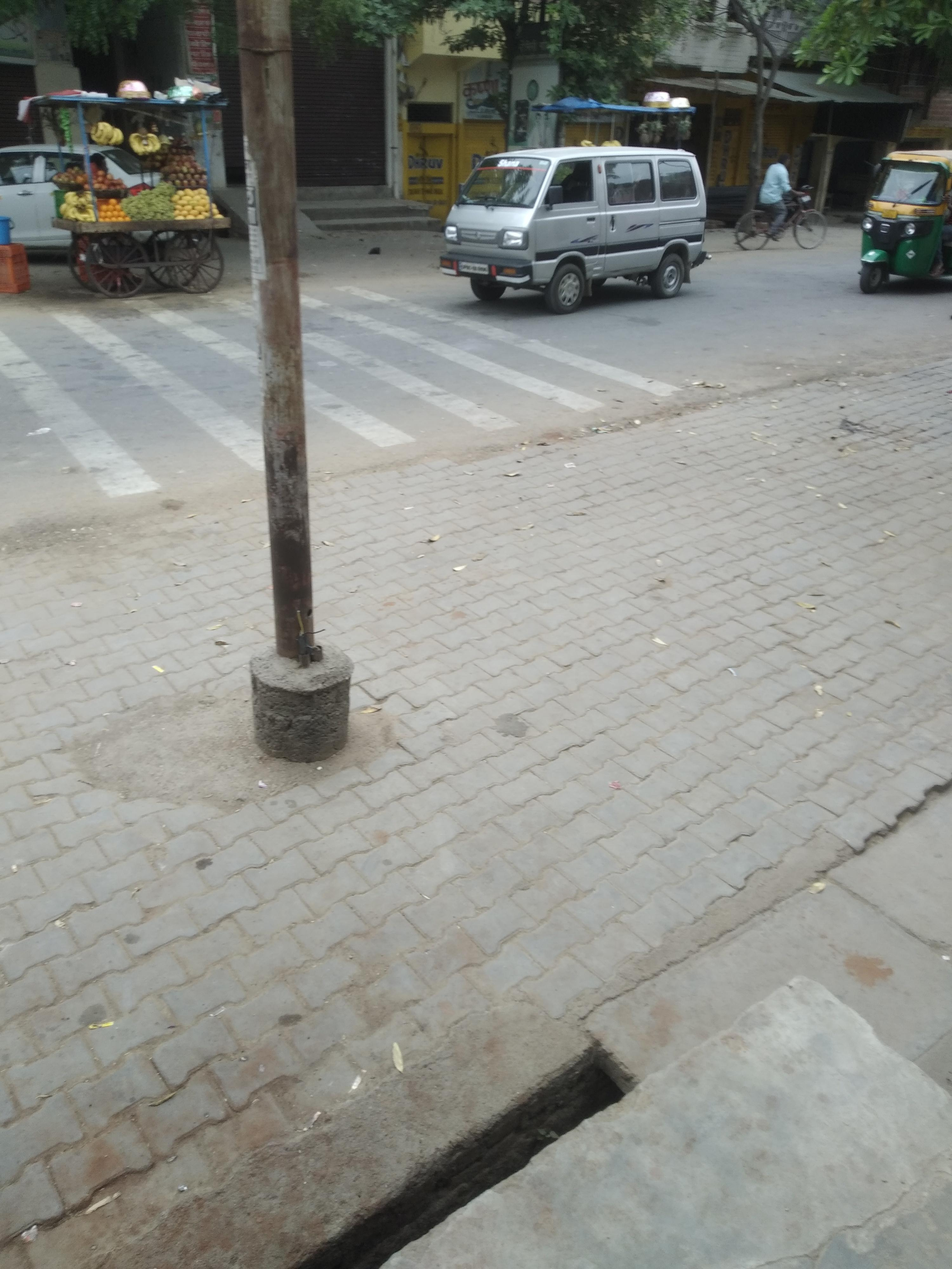Non-emergency: (404, 100, 751, 334), (833, 135, 952, 355)
